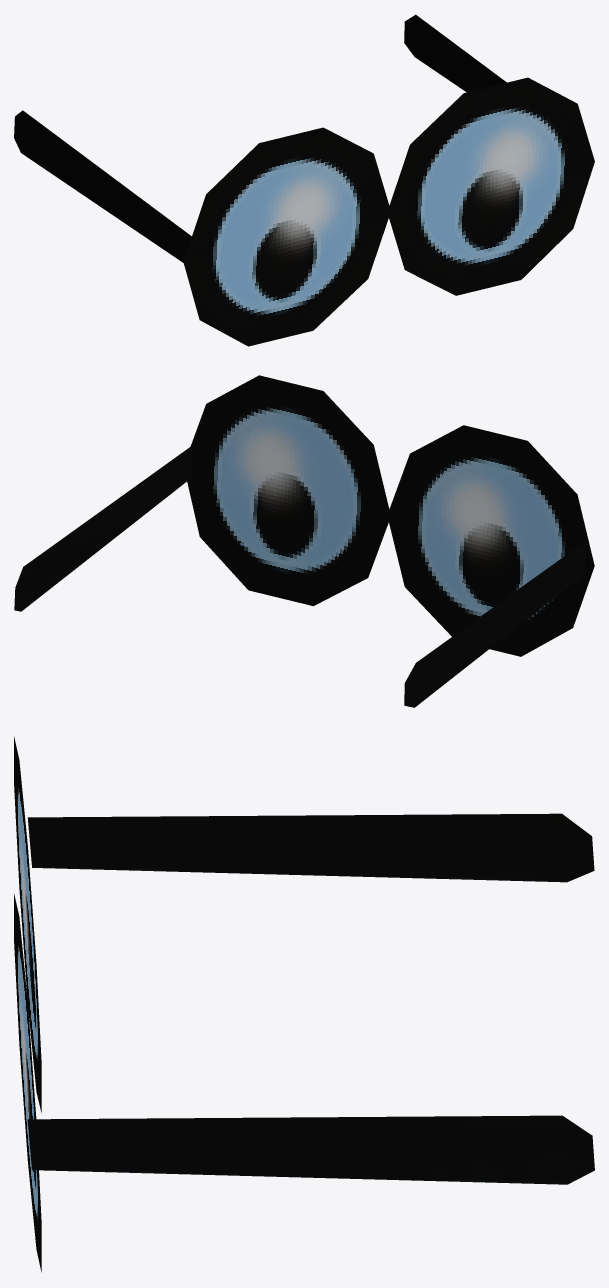
File: round_glasses.glb
3 views of the same model, one above another, from view 1: azimuth 30°, elevation 25°; view 2: azimuth 150°, elevation 25°; view 3: azimuth 270°, elevation 25° (orthographic). The views are drawn at different scales.
Parts seen in each view (by area): view 1: roundGlasses; view 2: roundGlasses; view 3: roundGlasses.
Boxes of the visible parts, bbox=[...] form: roundGlasses: bbox=[14, 14, 594, 346]; roundGlasses: bbox=[14, 375, 594, 707]; roundGlasses: bbox=[14, 736, 594, 1272].
Size of the model in its own units: 3.41 by 1.66 by 2.65.
1 material, 1 textured.
